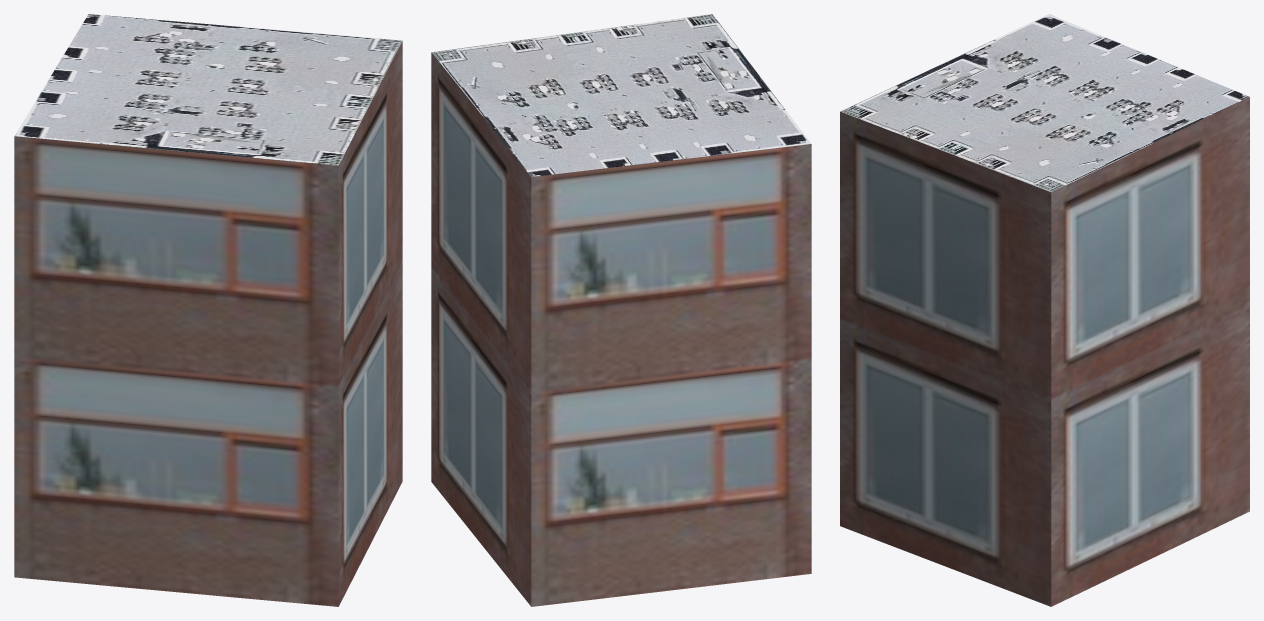
Rendered from ResTex__4112.fbx.
The picture shows the model from 3 angles, left to right: view 1: azimuth 30°, elevation 25°; view 2: azimuth 150°, elevation 25°; view 3: azimuth 270°, elevation 25°; orthographic projection. The views are drawn at different scales.
Parts seen in each view (by area): view 1: CityEngineMaterial_19_m, CityEngineMaterial_15_m; view 2: CityEngineMaterial_19_m, CityEngineMaterial_15_m; view 3: CityEngineMaterial_19_m, CityEngineMaterial_15_m.
Boxes of the visible parts, x1=… form: CityEngineMaterial_19_m: x1=14, y1=41, x2=402, y2=606; CityEngineMaterial_15_m: x1=14, y1=14, x2=401, y2=165; CityEngineMaterial_19_m: x1=431, y1=52, x2=811, y2=606; CityEngineMaterial_15_m: x1=431, y1=14, x2=810, y2=176; CityEngineMaterial_19_m: x1=840, y1=97, x2=1249, y2=606; CityEngineMaterial_15_m: x1=840, y1=14, x2=1249, y2=192.
Bounding box in the file's own units: 5.54 × 6 × 5.37.
Materials: 2 (2 with a texture image).
